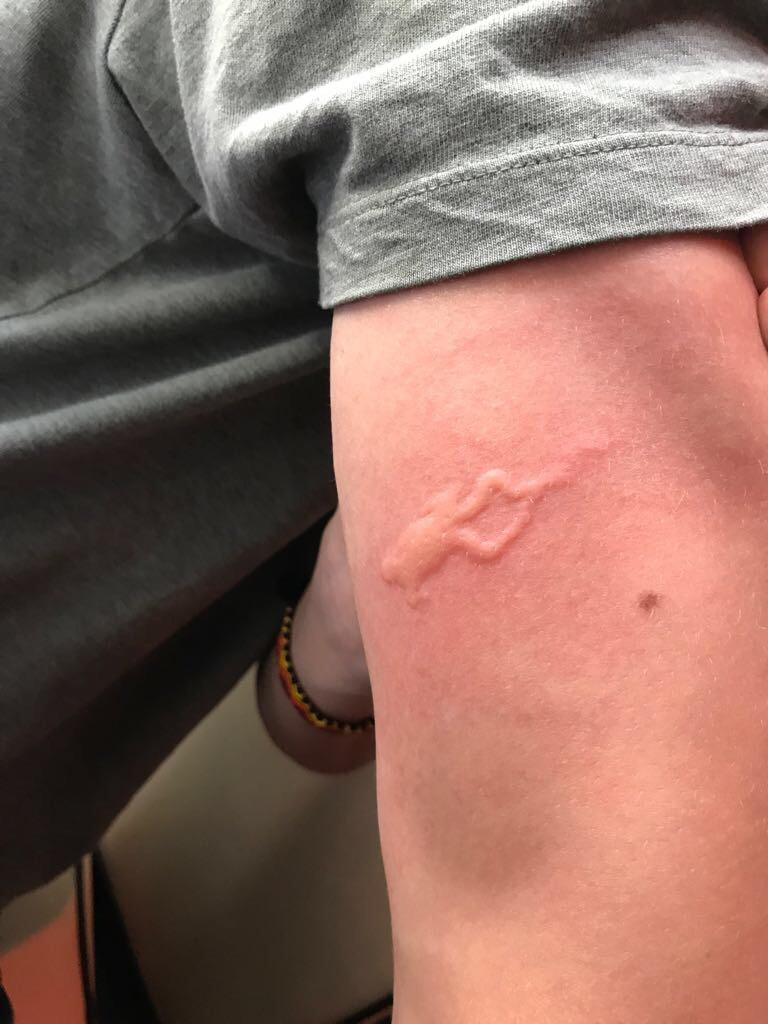Reupload: (367, 417, 576, 626)
